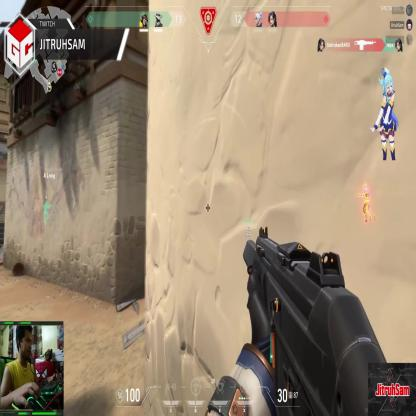enemy: (356, 182, 374, 222)
enemy_head: (363, 184, 367, 192)
